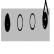correct: (4, 11, 11, 33)
not correct: (42, 0, 49, 32)
